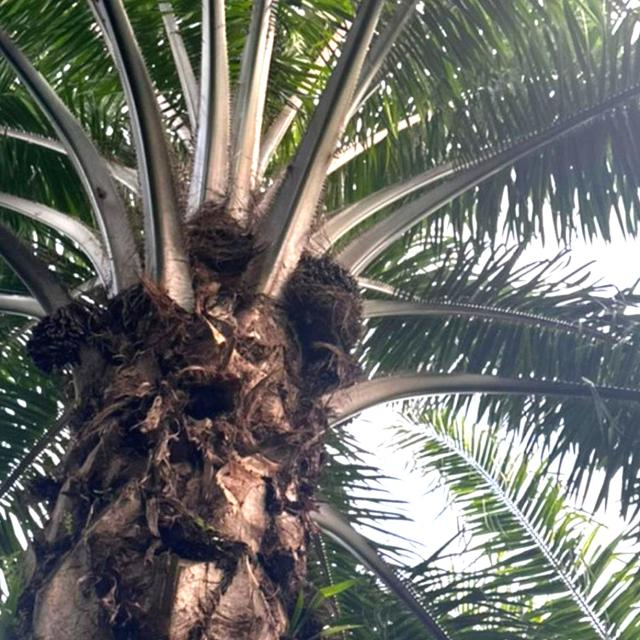unripe: (282, 245, 375, 359), (25, 298, 99, 375)
